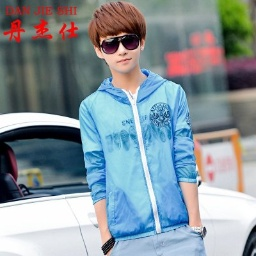face: (86, 2, 147, 75)
